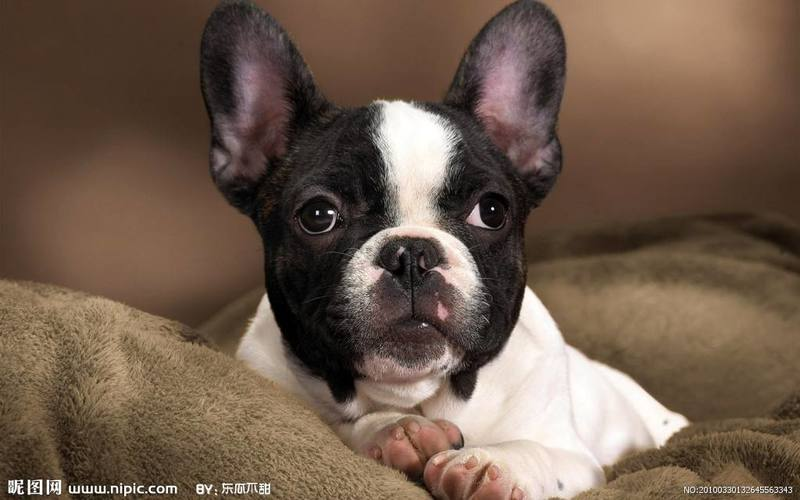dog: (194, 12, 607, 390)
